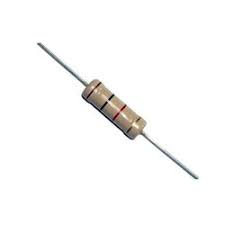resistor: (74, 71, 161, 146)
